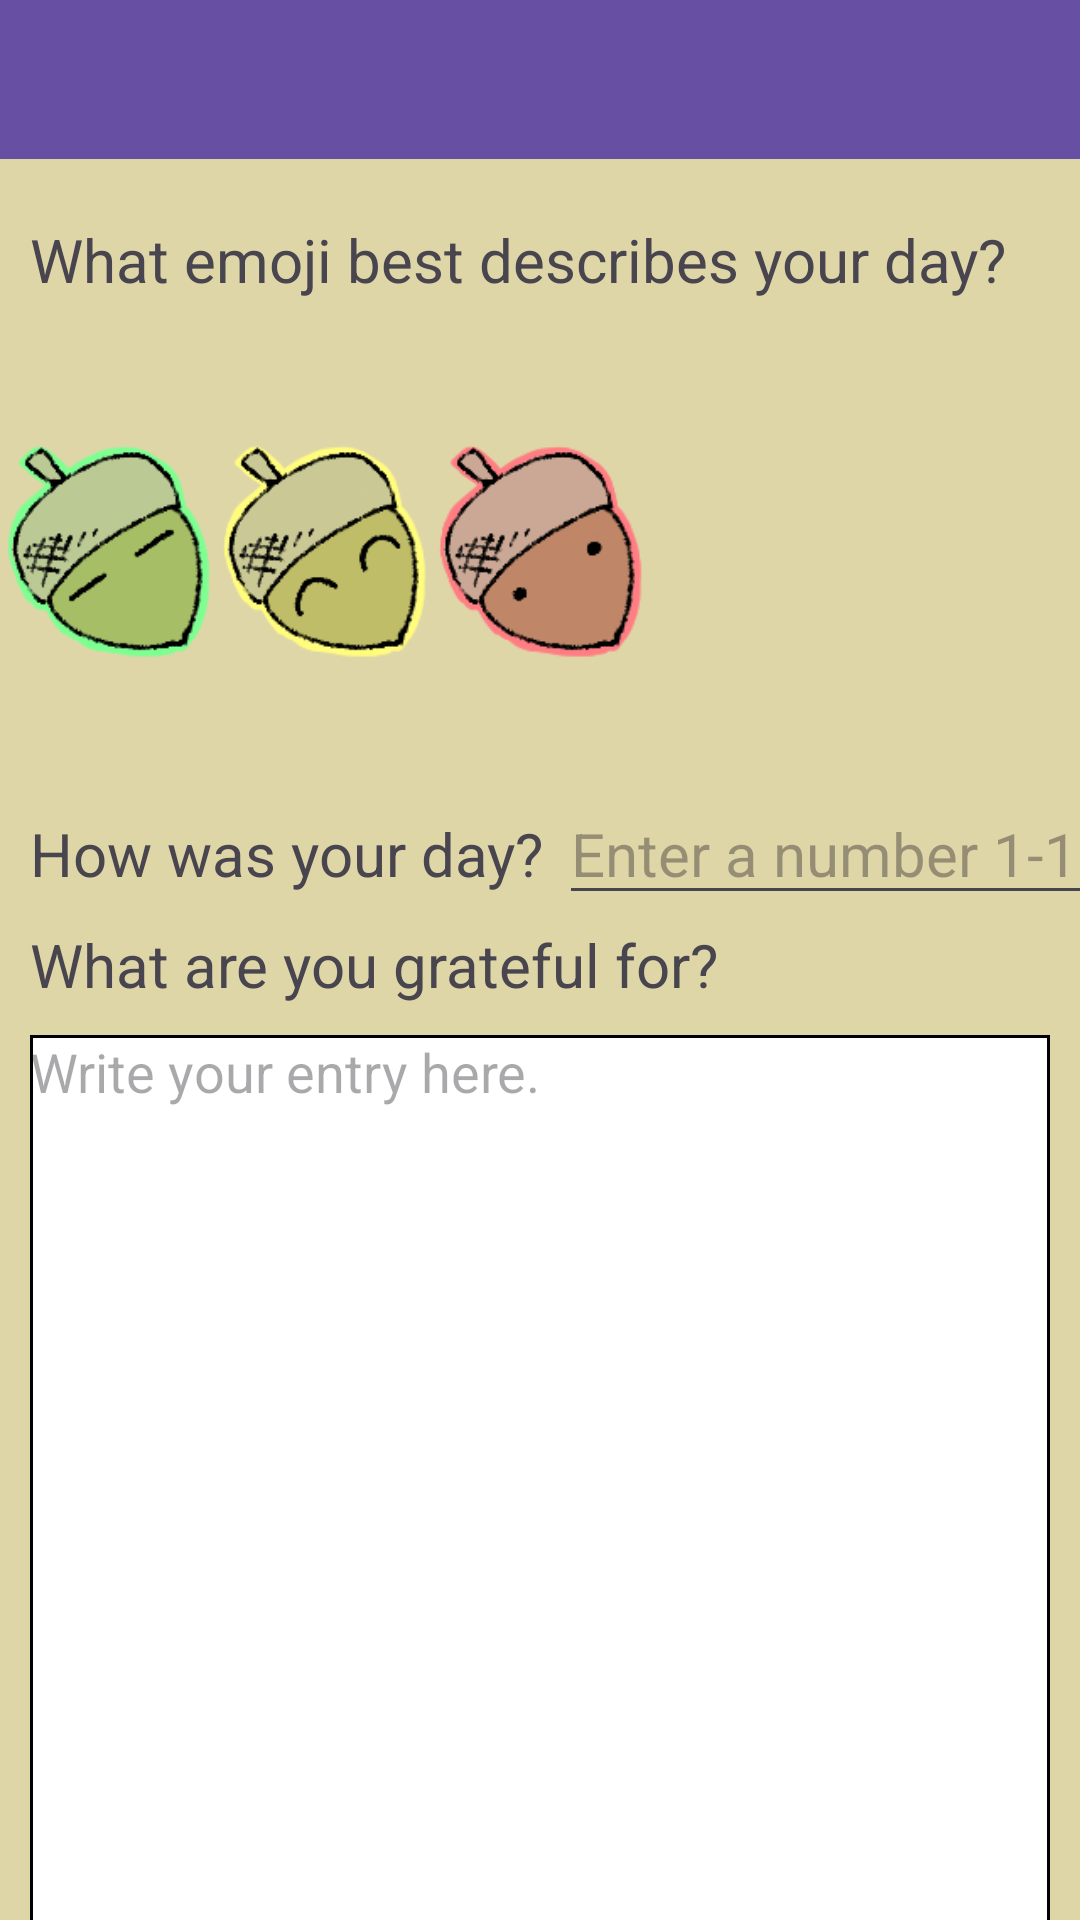

Locate icon controls on the screen. Image size 1080 × 1920, boxes as [left=x1, top=y1, right=x2, bottom=y2].
em good: [left=224, top=447, right=425, bottom=656]
